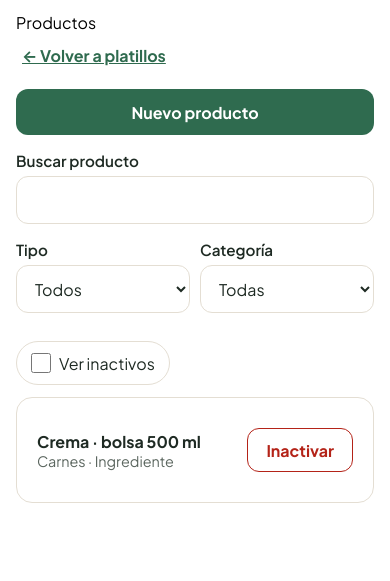
Test case: Catálogo de productos (HU-13) › error al inactivar y sin coincidencias
Step 1. Click the button with aria-label "Inactivar Crema" → (300, 450), box [247,428,353,472]
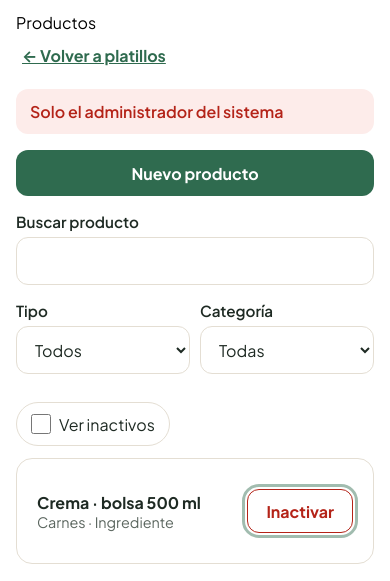
Now the text "Solo el administrador del sistema" is shown, box [30,101,284,122]
Step 2. Type "zzz" into the search field labelled "Buscar producto" → (195, 261), box [16,237,374,285]
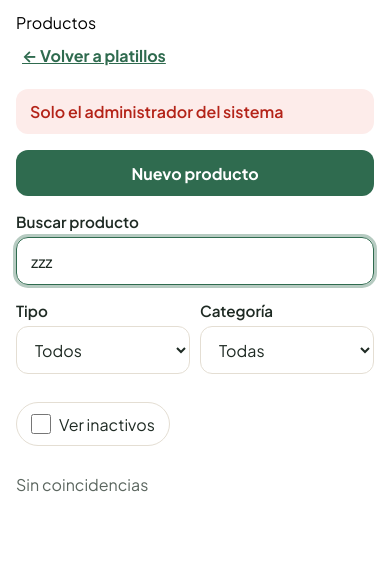
Now the text "Sin coincidencias" is shown, box [16,474,148,495]
